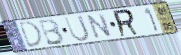1: (144, 7, 161, 34)
B: (38, 17, 66, 46)
D: (18, 20, 46, 50)
N: (86, 12, 114, 40)
R: (111, 8, 141, 39)
U: (63, 14, 91, 43)
